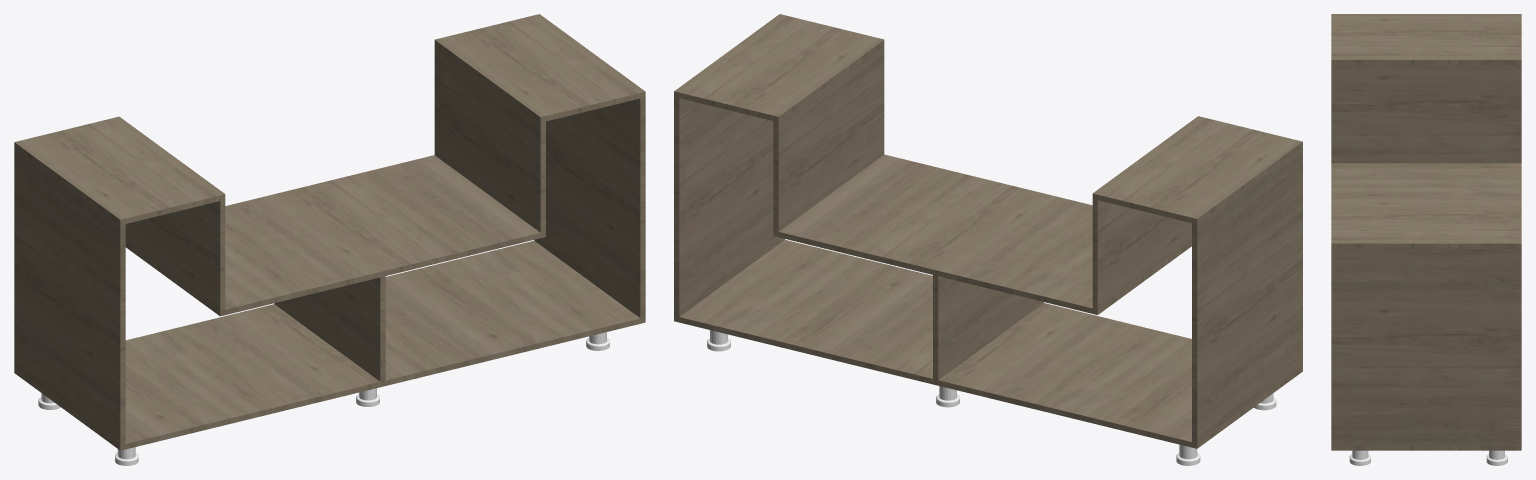
3 renders of one model, left to right at view 1: azimuth 30°, elevation 25°; view 2: azimuth 150°, elevation 25°; view 3: azimuth 270°, elevation 25°, orthographic. The views are drawn at different scales.
Parts seen in each view (by area): view 1: Box041, Box051, Box052, Box050, Box044, Box045, Box053, Box054, Box055; view 2: Box041, Box051, Box052, Box050, Box044, Box053, Box045, Box054, Box055; view 3: Box050, Box054, Box045, Box053, Box051, Box041, Cylinder011, Cylinder012.
Part boxes in pixels (left/top/right/bottom): Box041: left=14, top=240, right=645, bottom=450; Box051: left=125, top=155, right=545, bottom=316; Box052: left=14, top=148, right=125, bottom=445; Box050: left=534, top=97, right=645, bottom=318; Box044: left=434, top=45, right=545, bottom=232; Box045: left=434, top=14, right=645, bottom=122; Box053: left=14, top=116, right=225, bottom=225; Box054: left=125, top=200, right=225, bottom=310; Box055: left=274, top=276, right=385, bottom=381; Box041: left=674, top=240, right=1302, bottom=448; Box051: left=773, top=154, right=1191, bottom=314; Box052: left=1192, top=147, right=1302, bottom=443; Box050: left=674, top=97, right=784, bottom=316; Box044: left=773, top=45, right=884, bottom=231; Box053: left=1092, top=116, right=1302, bottom=224; Box045: left=674, top=14, right=884, bottom=122; Box054: left=1092, top=199, right=1191, bottom=309; Box055: left=933, top=275, right=1043, bottom=379; Box050: left=1331, top=248, right=1521, bottom=445; Box054: left=1331, top=65, right=1521, bottom=163; Box045: left=1331, top=197, right=1521, bottom=248; Box053: left=1331, top=14, right=1521, bottom=64; Box051: left=1331, top=163, right=1521, bottom=197; Box041: left=1331, top=445, right=1521, bottom=450; Cylinder011: left=1349, top=450, right=1370, bottom=465; Cylinder012: left=1486, top=450, right=1507, bottom=465.
Size of the model in its own units: 2 by 0.9399 by 0.7.
Materials: 2 (1 with a texture image).
